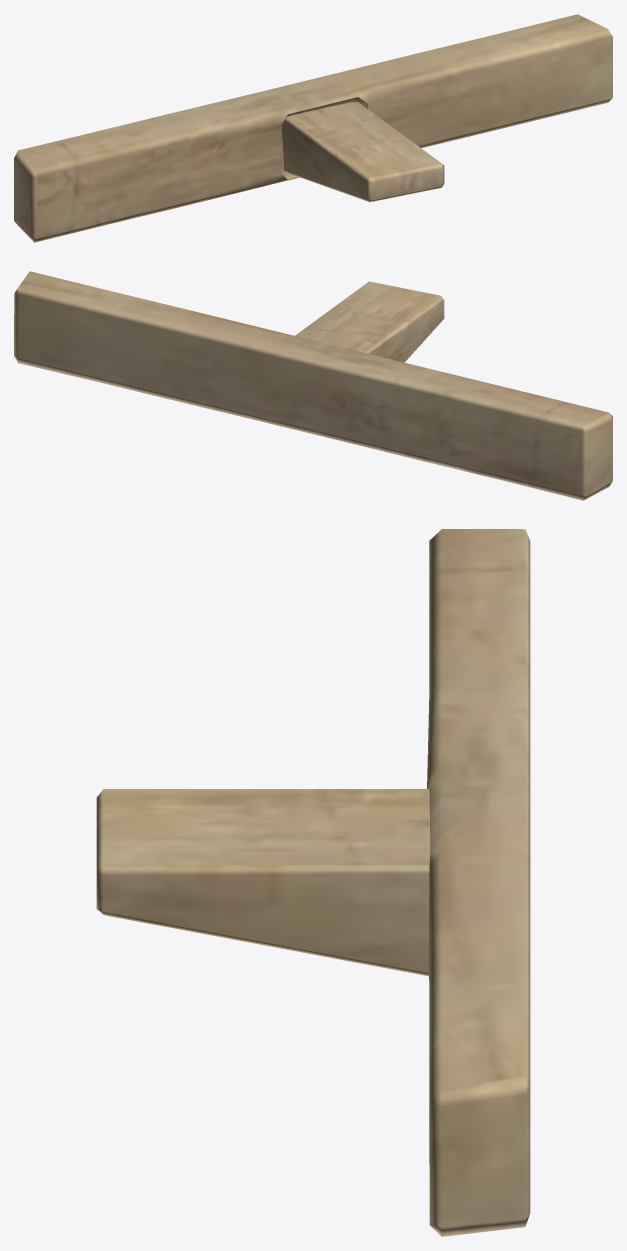
3 renders of one model, top to bottom at view 1: azimuth 30°, elevation 25°; view 2: azimuth 150°, elevation 25°; view 3: azimuth 270°, elevation 25°, orthographic. The views are drawn at different scales.
Visible parts, largest first — view 1: SM_Cape_Rack_01v1_LOD0; view 2: SM_Cape_Rack_01v1_LOD0; view 3: SM_Cape_Rack_01v1_LOD0.
Part boxes in pixels (box(x1,y1,x2,y2)): SM_Cape_Rack_01v1_LOD0: box(14, 14, 612, 242); SM_Cape_Rack_01v1_LOD0: box(14, 271, 612, 500); SM_Cape_Rack_01v1_LOD0: box(96, 529, 530, 1236).
Bounding box in the file's own units: 0.7514 × 0.0938 × 0.2429.
1 material, 1 textured.
